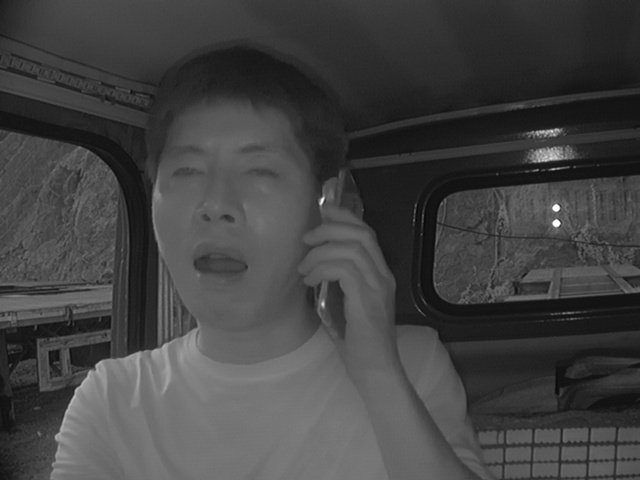hand: (301, 207, 399, 359)
